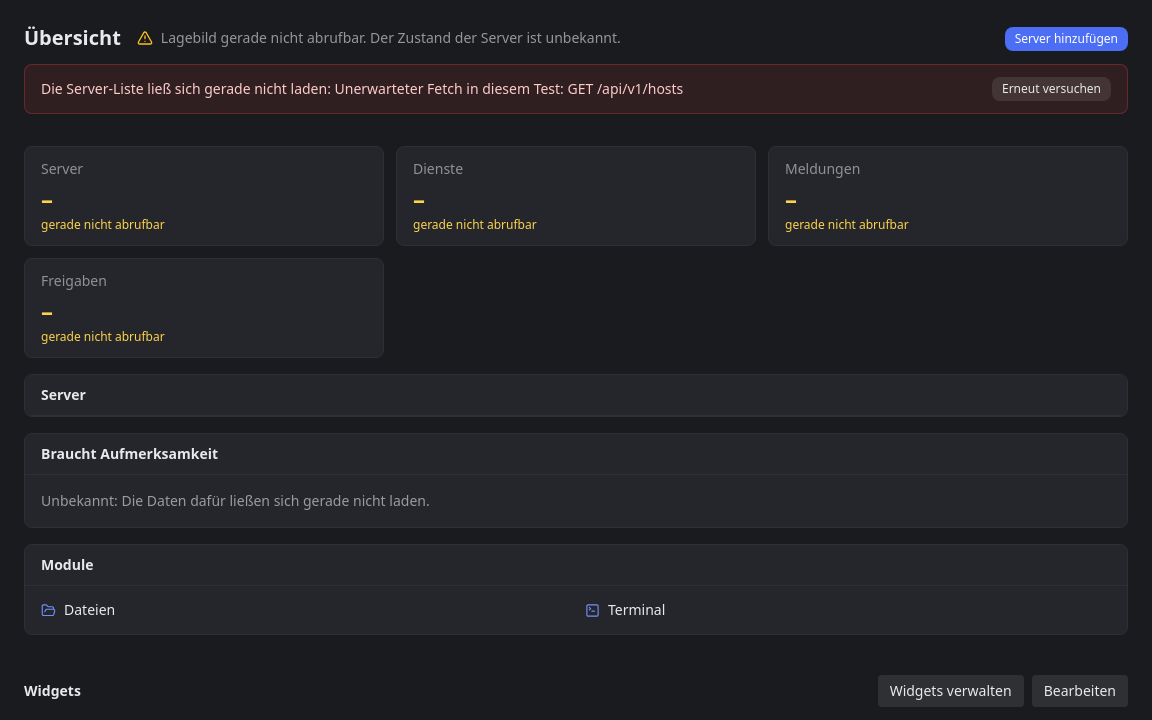
Scenario: DashboardPage: nicht eingerichtete Module › blendet das Widget aus; „Widgets verwalten“ zeigt den Hinweis mit Link zu den Einstellungen
The width and height of the screenshot is (1152, 720).
Expected: the text "Backup-Center" is not shown
Click the button "Widgets verwalten" at (951, 691), box [878,675,1024,707]
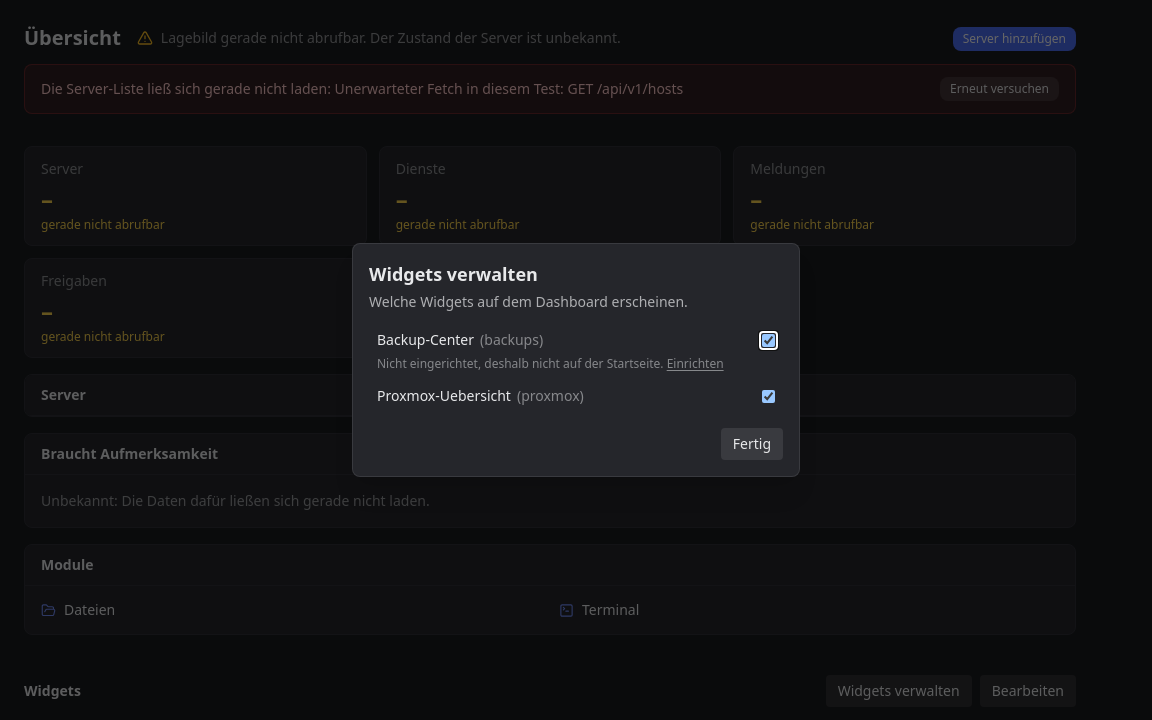
Expected: the element with test id "widget-not-configured-backups:summary" shows "Nicht eingerichtet", [377,355,664,372]
Expected: the checkbox labelled "Backup-Center(backups)" is checked, [762,334,775,346]
